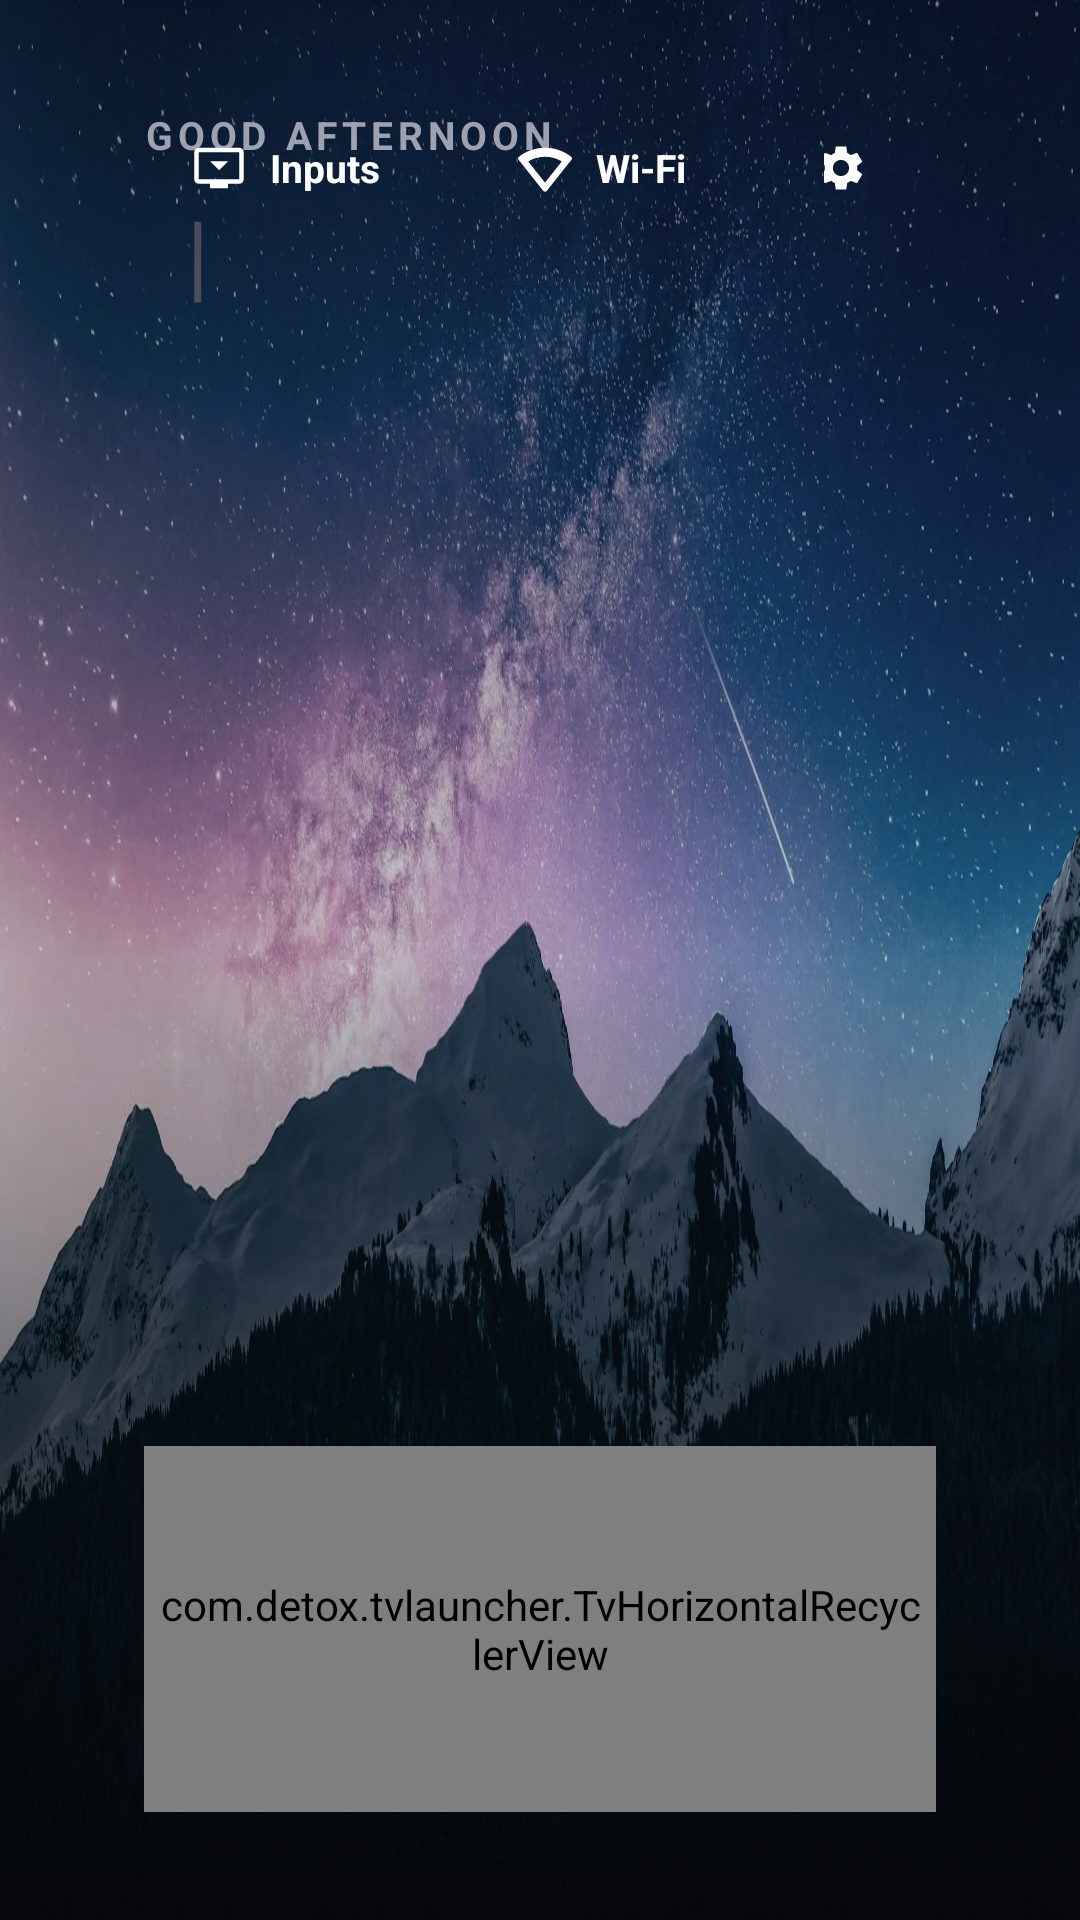

Icon bounding boxes for this 1080x1920 phone screenshot, format (x1, y1, x2, y2):
Settings: (814, 141, 867, 190)
